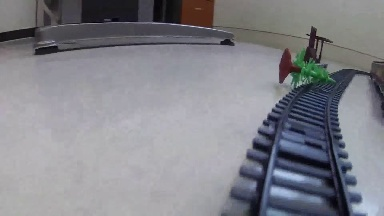tree: (273, 45, 338, 95)
